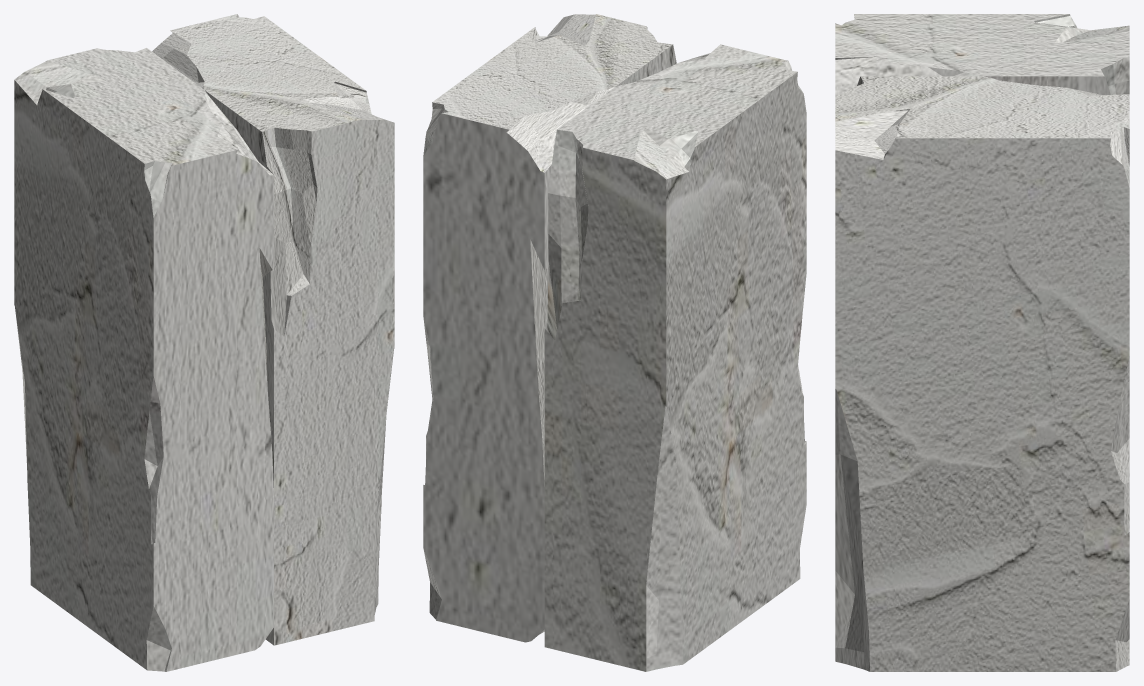
The model's file is mold test.fbx.
The picture shows the model from 3 angles, left to right: view 1: azimuth 30°, elevation 25°; view 2: azimuth 150°, elevation 25°; view 3: azimuth 270°, elevation 25°; orthographic projection. The views are drawn at different scales.
Visible parts, largest first — view 1: mold_ani_1, mold_ani_2; view 2: mold_ani_1, mold_ani_2; view 3: mold_ani_2, mold_ani_1.
Part boxes in pixels (x1,y1,x2,y2): mold_ani_1: (14,48,273,671); mold_ani_2: (152,14,394,645); mold_ani_1: (544,44,806,671); mold_ani_2: (423,14,676,642); mold_ani_2: (835,76,1129,671); mold_ani_1: (835,14,1129,95).
Bounding box in the file's own units: 20 × 40 × 20.
1 material, 1 textured.
